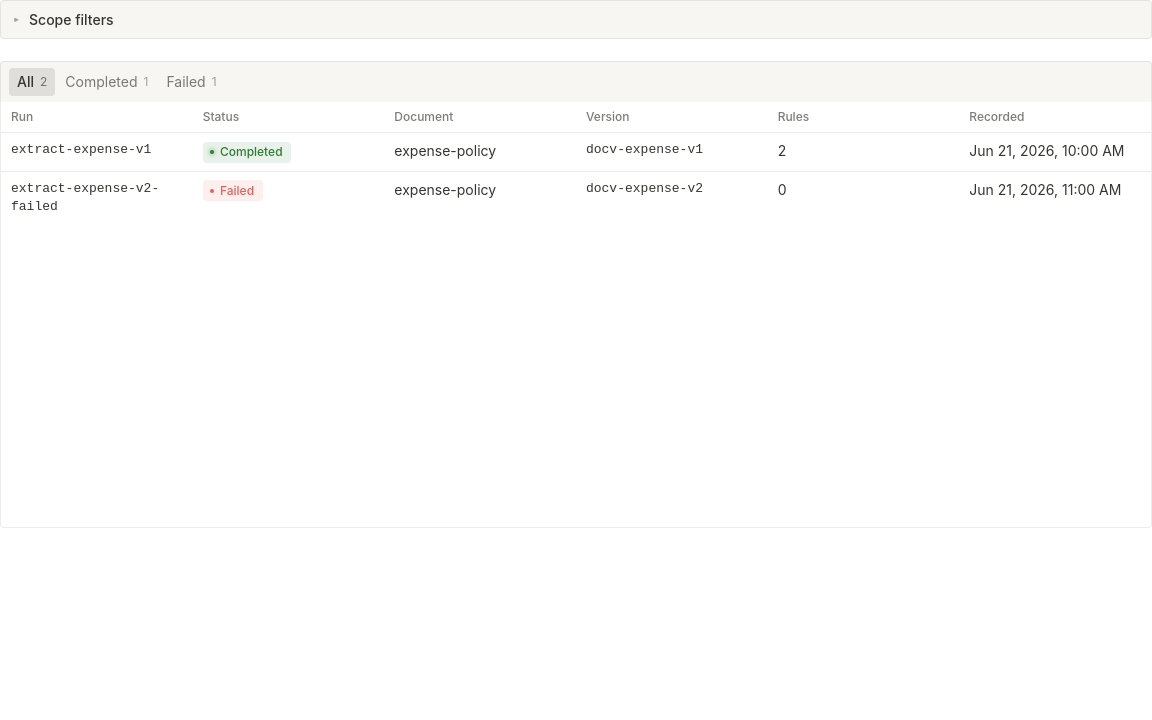
Test: ExtractionRunCatalog › filters runs by status tab
Expected: the text "extract-expense-v1" is shown, [1, 132, 193, 171]
Expected: the text "extract-expense-v2-failed" is shown, [1, 171, 193, 225]
Click the tab "Completed 1" at x=107, y=82, box [57, 68, 156, 96]
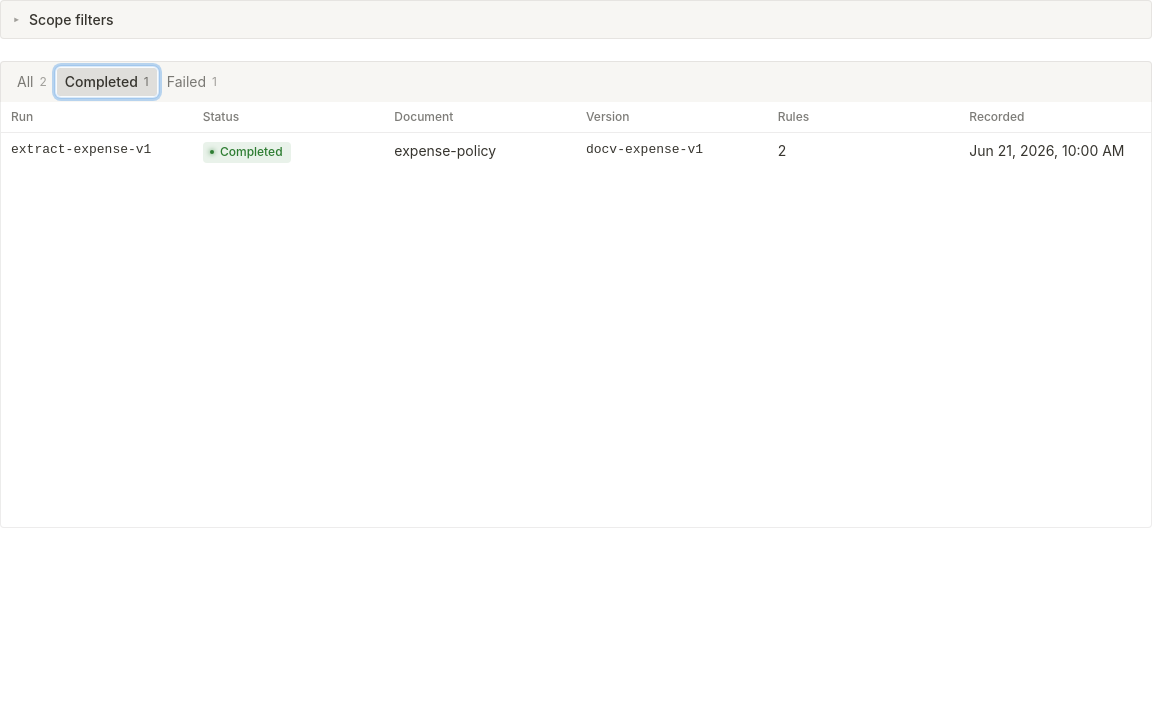
Expected: the text "extract-expense-v1" is shown, [1, 132, 193, 171]
Expected: the text "extract-expense-v2-failed" is gone
Click the tab "Failed 1" at x=192, y=82, box [159, 68, 225, 96]
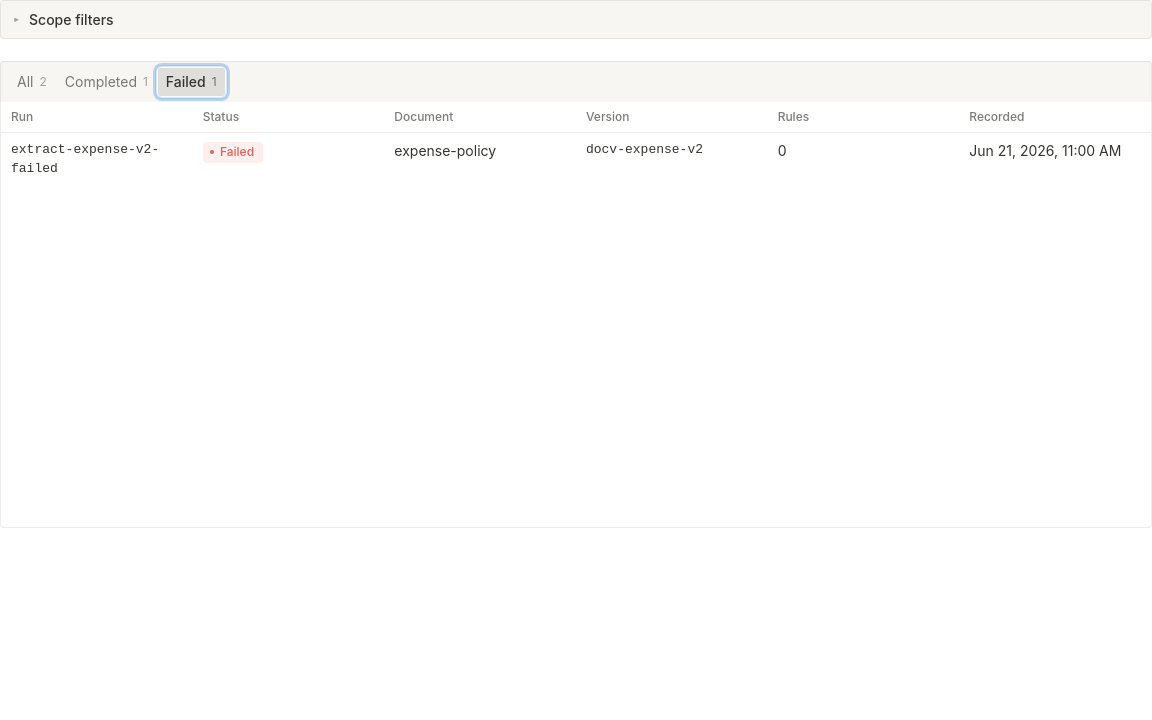
Expected: the text "extract-expense-v1" is gone
Expected: the text "extract-expense-v2-failed" is shown, [1, 132, 193, 187]
